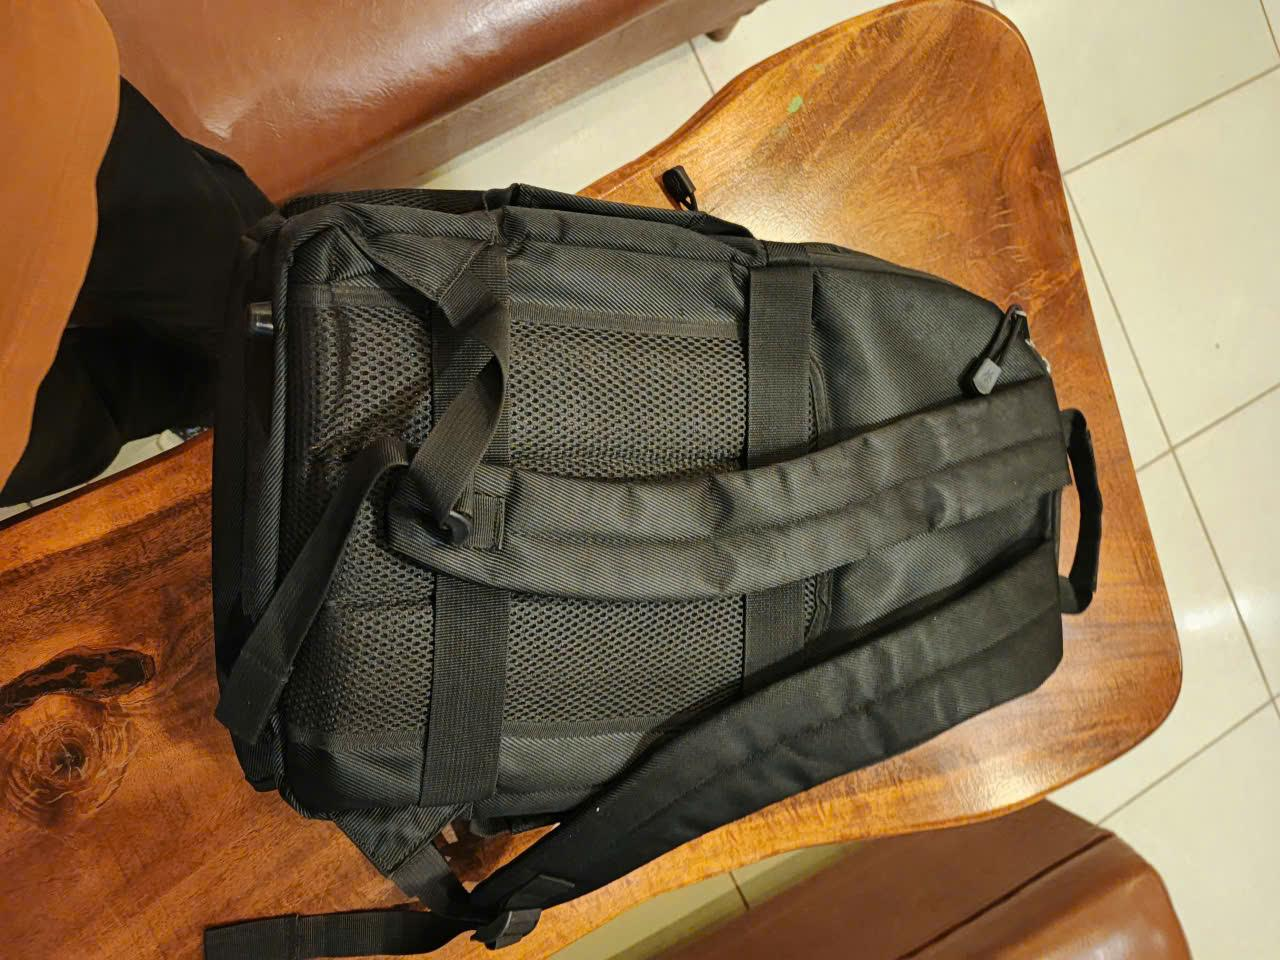Con lai: (224, 178, 1081, 841)
